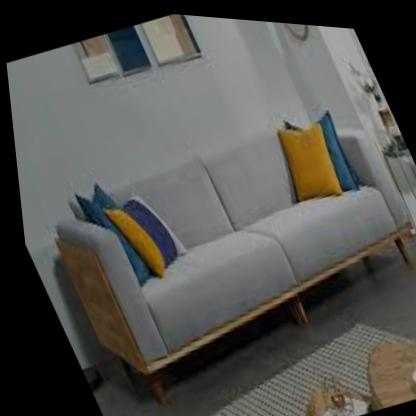Sofa: (3, 42, 416, 416)
